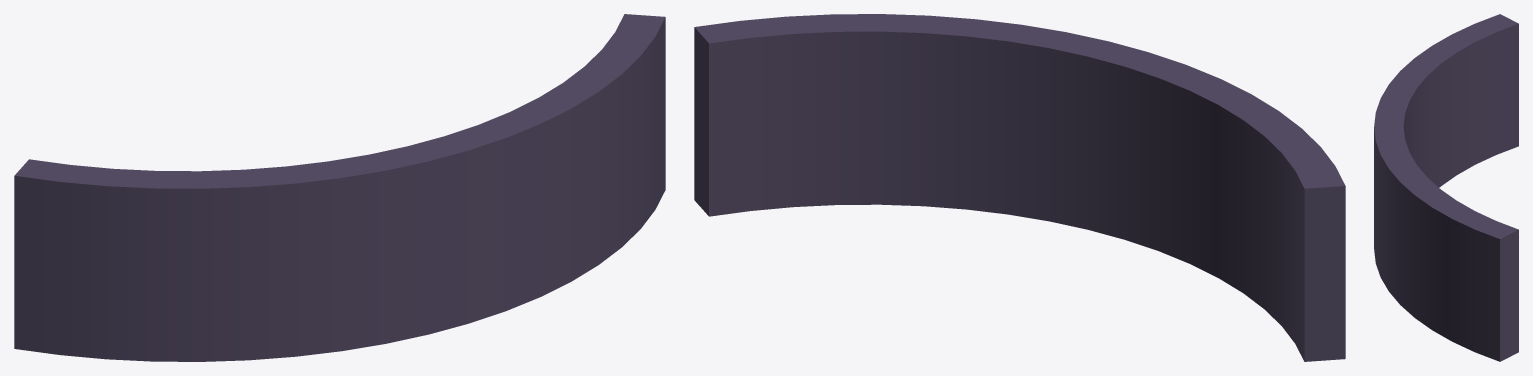
The model's file is Outer_04.fbx.
3 renders of one model, left to right at view 1: azimuth 30°, elevation 25°; view 2: azimuth 150°, elevation 25°; view 3: azimuth 270°, elevation 25°, orthographic. The views are drawn at different scales.
Visible parts, largest first — view 1: Outer_04; view 2: Outer_04; view 3: Outer_04.
Part boxes in pixels (x1=…): Outer_04: x1=14, y1=14, x2=665, y2=361; Outer_04: x1=694, y1=14, x2=1345, y2=361; Outer_04: x1=1374, y1=14, x2=1518, y2=361.
Bounding box in the file's own units: 137 × 34.73 × 37.11.
